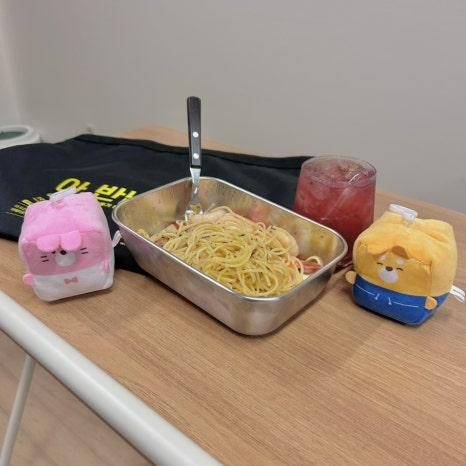Lunch Box: (113, 177, 346, 335)
cup: (293, 156, 375, 265)
